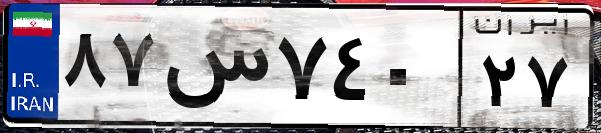0: (385, 28, 445, 110)
2: (475, 38, 525, 113)
4: (330, 28, 385, 110)
7: (270, 28, 330, 110), (525, 38, 570, 115), (110, 28, 158, 98)
8: (57, 26, 110, 100)
س: (158, 20, 270, 120)
